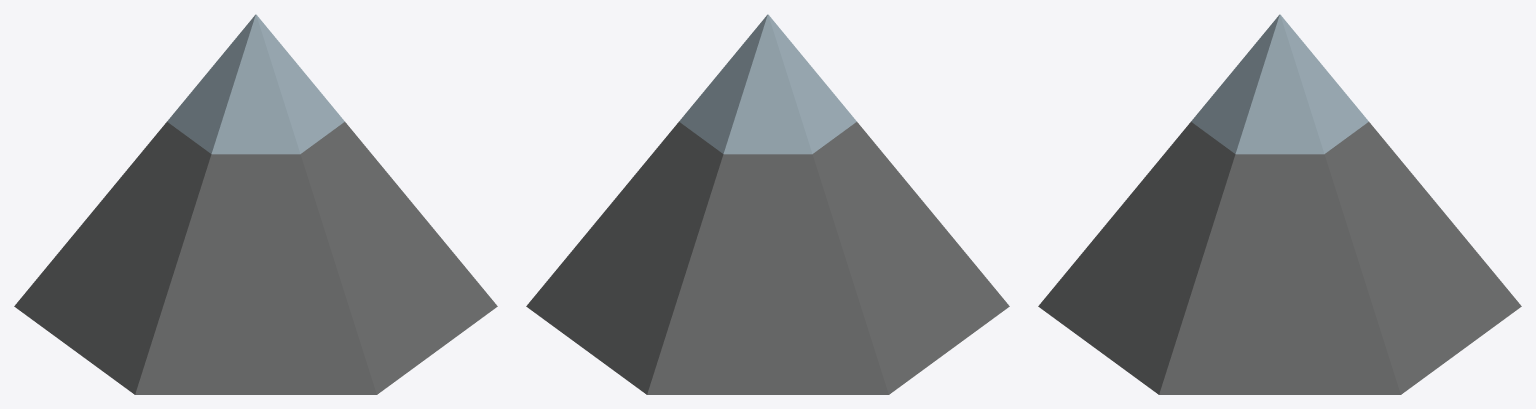
File: Mountain.fbx
3 views of the same model, side by side, from view 1: azimuth 30°, elevation 25°; view 2: azimuth 150°, elevation 25°; view 3: azimuth 270°, elevation 25° (orthographic).
Parts seen in each view (by area): view 1: Mountain; view 2: Mountain; view 3: Mountain.
Part boxes in pixels (x1=…): Mountain: x1=14, y1=14, x2=497, y2=394; Mountain: x1=526, y1=14, x2=1009, y2=394; Mountain: x1=1038, y1=14, x2=1521, y2=394.
Bounding box in the file's own units: 0.9233 × 0.7112 × 1.07.
